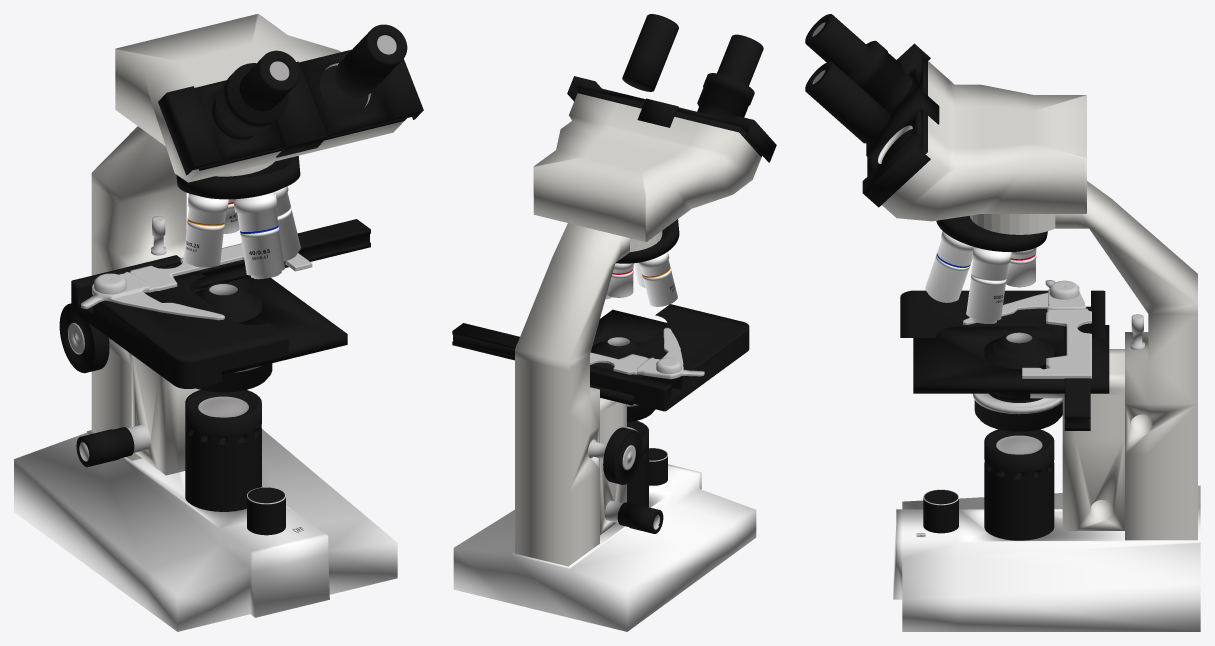
File: microscope.glb
3 views of the same model, side by side, from view 1: azimuth 30°, elevation 25°; view 2: azimuth 150°, elevation 25°; view 3: azimuth 270°, elevation 25° (orthographic). The views are drawn at different scales.
Parts seen in each view (by area): view 1: base1, head, base2, tray, head.001, lamp, objective, base3, tray2, 40x, rail, condenser (+10 smaller); view 2: base2, base1, head, tray, objective, head.001, focusknob, tray2, objective-lower, base3, rail, 10x (+8 smaller); view 3: base1, base2, head, base3, tray2, lamp, objective, head.001, condenser, tray, slide holder, 100x (+7 smaller).
Boxes of the visible parts, box(x1,y1,x2,y2) form: base1: box(14, 429, 397, 631); head: box(115, 14, 406, 182); base2: box(91, 126, 274, 460); tray: box(71, 255, 288, 388); head.001: box(158, 49, 423, 175); lamp: box(185, 390, 261, 511); objective: box(239, 24, 407, 111); base3: box(131, 355, 200, 475); tray2: box(192, 276, 347, 375); 40x: box(233, 192, 284, 279); rail: box(157, 219, 370, 288); condenser: box(194, 282, 272, 392); base2: box(515, 223, 662, 566); base1: box(453, 464, 756, 631); head: box(533, 88, 762, 241); tray: box(590, 304, 749, 411); objective: box(622, 14, 763, 91); head.001: box(567, 76, 776, 162); focusknob: box(588, 427, 642, 484); tray2: box(590, 309, 667, 405); objective-lower: box(697, 73, 754, 119); base3: box(600, 398, 626, 534); rail: box(452, 323, 649, 379); 10x: box(638, 252, 677, 306); base1: box(893, 485, 1200, 631); base2: box(970, 181, 1197, 540); head: box(882, 56, 1086, 221); base3: box(1030, 349, 1124, 530); tray2: box(913, 325, 1109, 393); lamp: box(984, 429, 1054, 540); objective: box(805, 14, 890, 143); head.001: box(862, 43, 939, 207); condenser: box(972, 331, 1062, 431); tray: box(900, 290, 1105, 353); slide holder: box(1022, 308, 1091, 378); 100x: box(966, 247, 1011, 323).
Bounding box in the file's own units: 0.1755 × 0.3354 × 0.2215.
15 materials, 4 textured.
